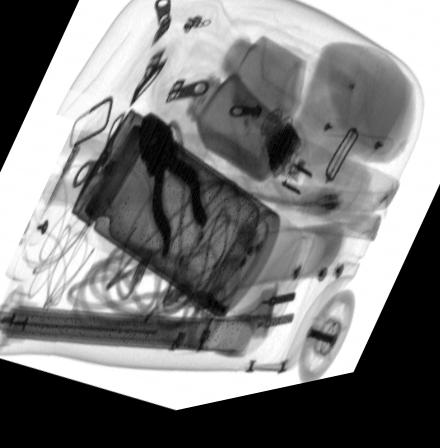Pliers: (137, 120, 210, 269)
